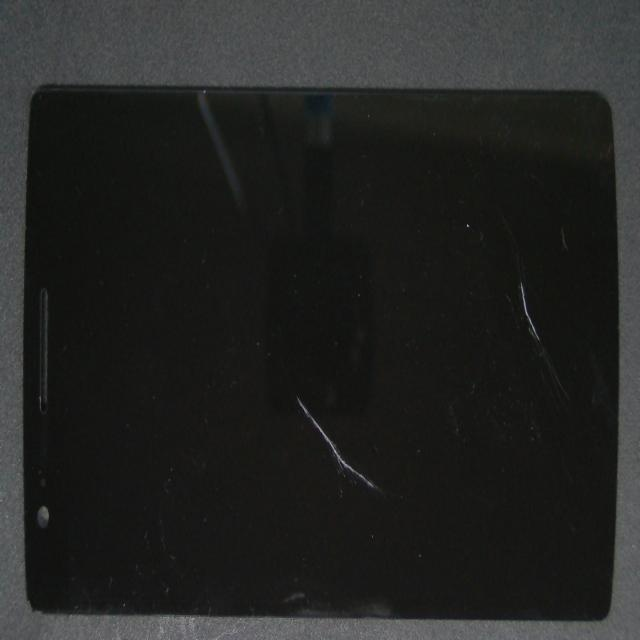scratch: (232, 55, 640, 470), (159, 169, 441, 558)
